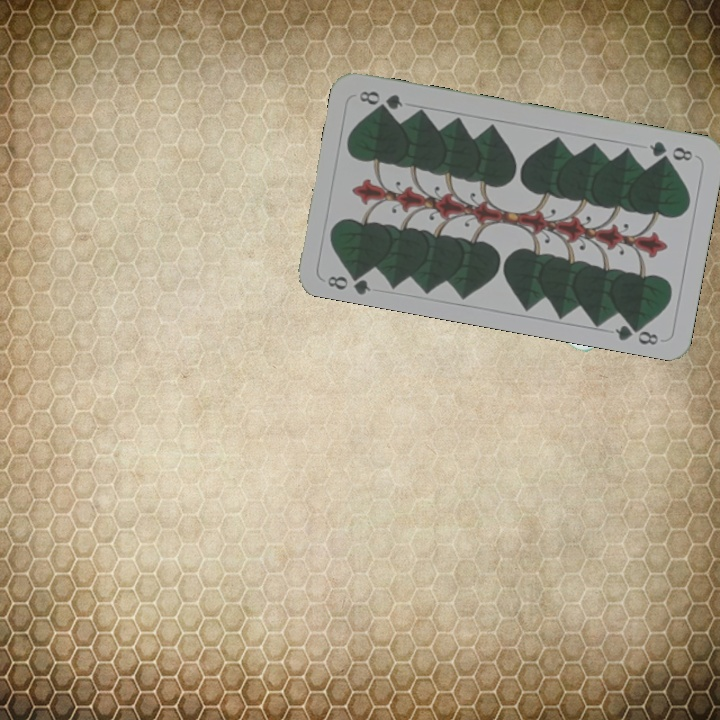G8: (323, 266, 373, 297), (645, 137, 696, 164)
